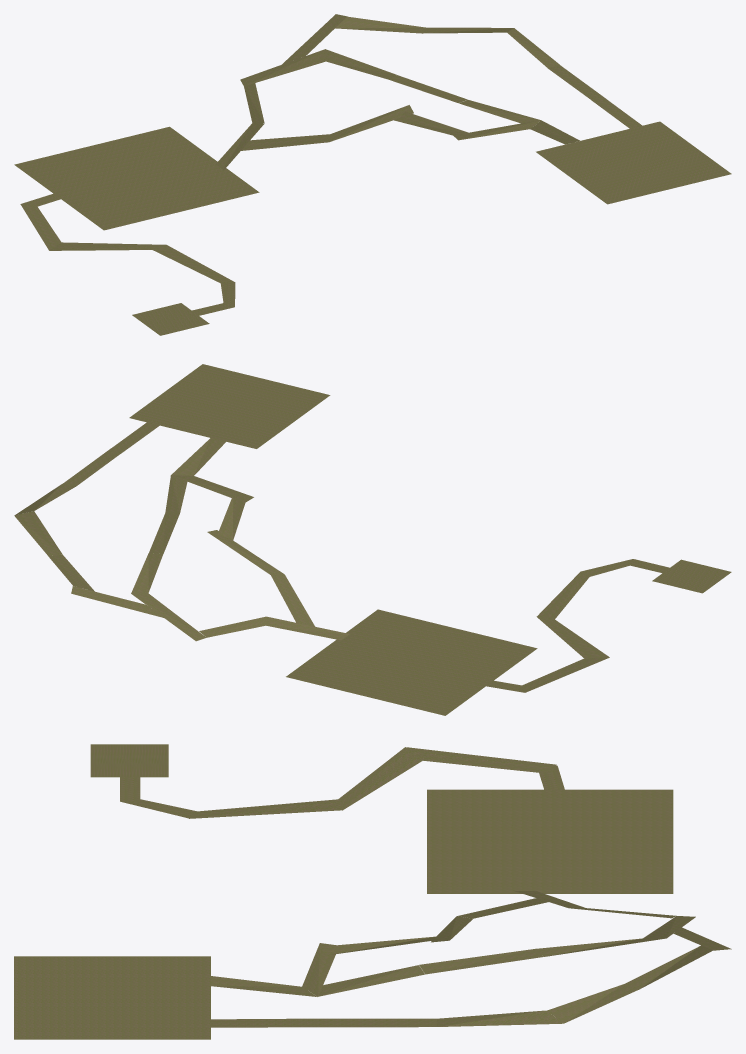
Rendered from path_layout.glb.
The picture shows the model from 3 angles, top to bottom: view 1: azimuth 30°, elevation 25°; view 2: azimuth 150°, elevation 25°; view 3: azimuth 270°, elevation 25°; orthographic projection. The views are drawn at different scales.
Parts seen in each view (by area): view 1: path, PLANE_01, PLANE_02, PLANE_03; view 2: path, PLANE_01, PLANE_02, PLANE_03; view 3: PLANE_01, path, PLANE_02, PLANE_03.
Part boxes in pixels (x1,y1,x2,y2): path: (20, 14, 642, 315); PLANE_01: (14, 126, 259, 230); PLANE_02: (536, 121, 731, 204); PLANE_03: (132, 303, 209, 335); path: (14, 422, 669, 692); PLANE_01: (286, 609, 537, 715); PLANE_02: (129, 364, 330, 448); PLANE_03: (652, 559, 731, 593); PLANE_01: (427, 789, 673, 893); path: (120, 747, 731, 1027); PLANE_02: (14, 956, 210, 1039); PLANE_03: (90, 744, 168, 777).
Size of the model in its own units: 126 by 13.4 by 105.
2 materials, 2 textured.
